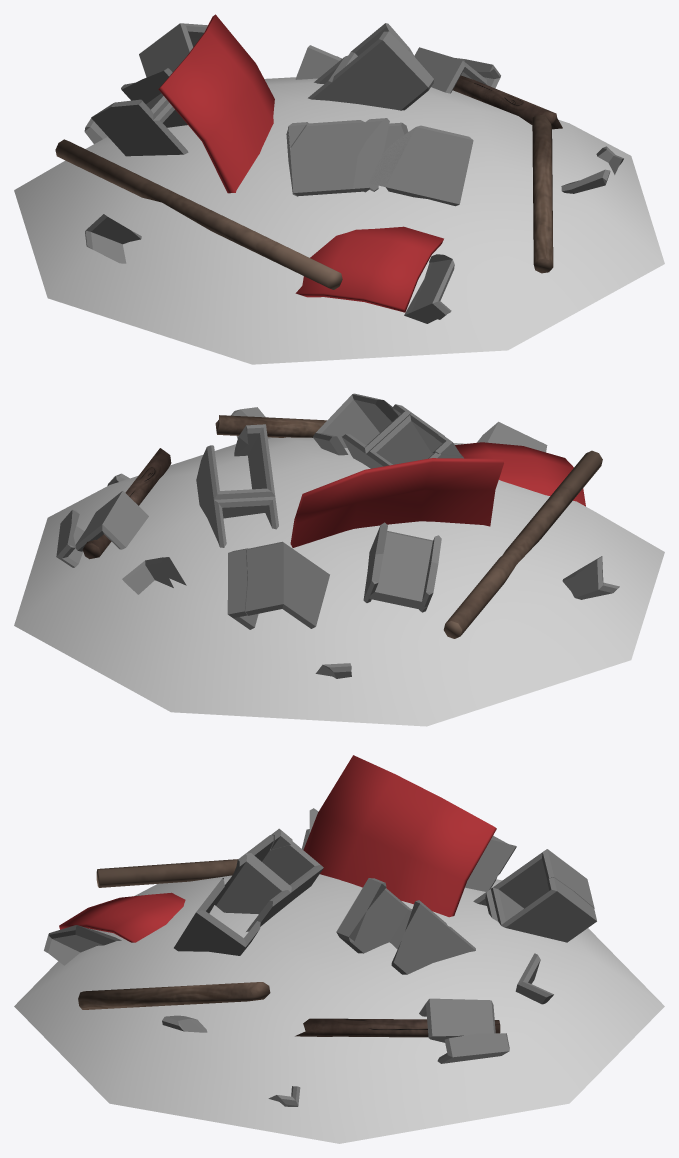
Rendered from Escombros_UVsEditados.fbx.
3 views of the same model, one above another, from view 1: azimuth 30°, elevation 25°; view 2: azimuth 150°, elevation 25°; view 3: azimuth 270°, elevation 25° (orthographic). The views are drawn at different scales.
Parts seen in each view (by area): view 1: Monton de Basura, Chapon, Chapita, Escombro.002, Escombro, Palo entero, Escombro.003, Escombro.004, Palo roto, Escombro.008, Escombro.001, Palo roto.001 (+4 smaller); view 2: Monton de Basura, Chapon, Escombro.001, Escombro, Escombro.004, Palo entero, Escombro.002, Chapita, Escombro.003, Escombro.005, Palo roto, Palo roto.001 (+4 smaller); view 3: Monton de Basura, Chapon, Escombro.001, Escombro, Escombro.002, Palo roto, Chapita, Palo entero, Escombro.005, Escombro.003, Palo roto.001, Escombro.012 (+3 smaller).
Part boxes in pixels (x1,y1,x2,y2): Monton de Basura: (14, 77, 664, 364); Chapon: (158, 14, 274, 193); Chapita: (295, 226, 443, 312); Escombro.002: (286, 118, 408, 196); Escombro: (308, 23, 433, 110); Palo entero: (55, 139, 342, 289); Escombro.003: (369, 125, 473, 206); Escombro.004: (91, 68, 188, 156); Palo roto: (532, 115, 553, 273); Escombro.008: (404, 254, 454, 323); Escombro.001: (139, 23, 207, 77); Palo roto.001: (453, 75, 562, 129); Monton de Basura: (14, 437, 664, 726); Chapon: (290, 458, 503, 547); Escombro.001: (227, 541, 329, 629); Escombro: (196, 424, 278, 547); Escombro.004: (363, 522, 441, 612); Palo entero: (443, 450, 602, 638); Escombro.002: (342, 404, 463, 468); Chapita: (455, 442, 585, 506); Escombro.003: (313, 393, 398, 455); Escombro.005: (75, 491, 148, 551); Palo roto: (215, 415, 326, 437); Palo roto.001: (82, 448, 171, 559); Monton de Basura: (14, 874, 664, 1143); Chapon: (303, 755, 496, 917); Escombro.001: (473, 849, 596, 942); Escombro: (336, 878, 475, 974); Escombro.002: (214, 835, 323, 931); Palo roto: (78, 982, 270, 1009); Chapita: (59, 892, 185, 942); Palo entero: (96, 859, 237, 887); Escombro.005: (419, 998, 495, 1042); Escombro.003: (174, 878, 260, 955); Palo roto.001: (295, 1018, 500, 1037); Escombro.012: (437, 1033, 509, 1063).
Bounding box in the file's own units: 180 × 58.64 × 180.
